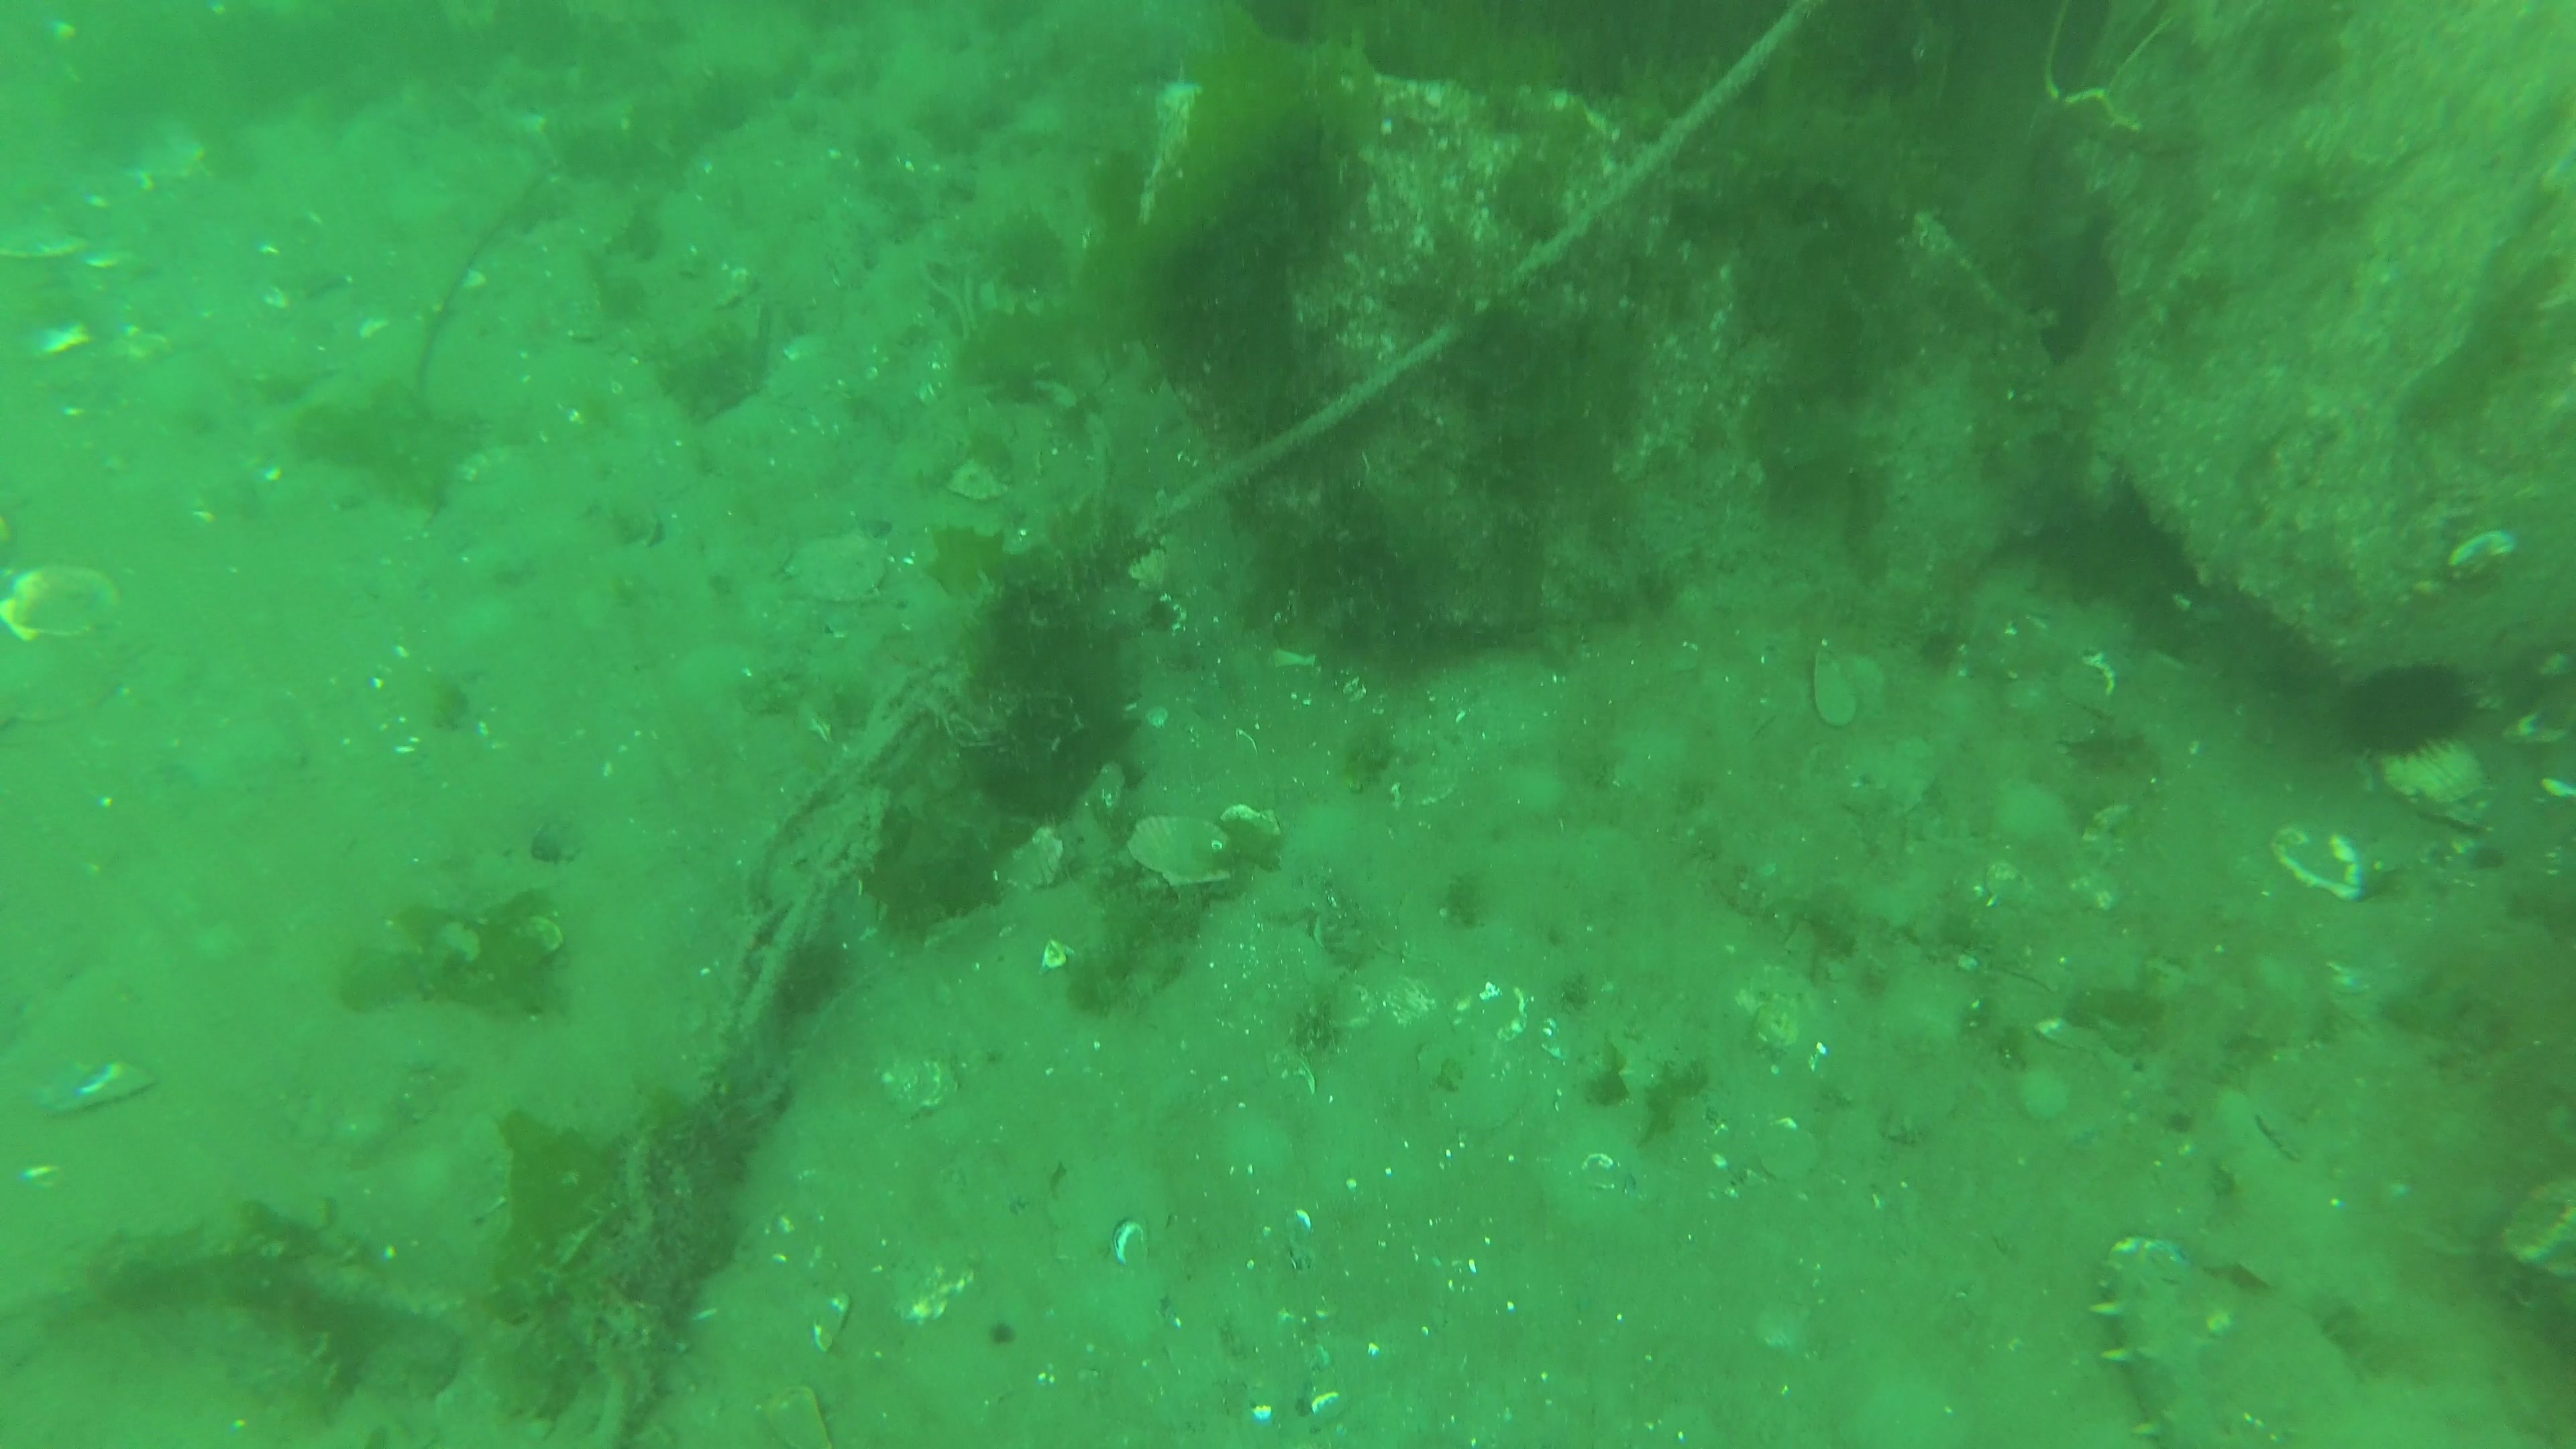echinus: (2335, 649, 2479, 761), (941, 455, 1012, 504)
holothurian: (2082, 1230, 2238, 1449)
scallop: (0, 557, 124, 648), (1123, 812, 1242, 890), (786, 533, 888, 607), (2381, 738, 2491, 807)
